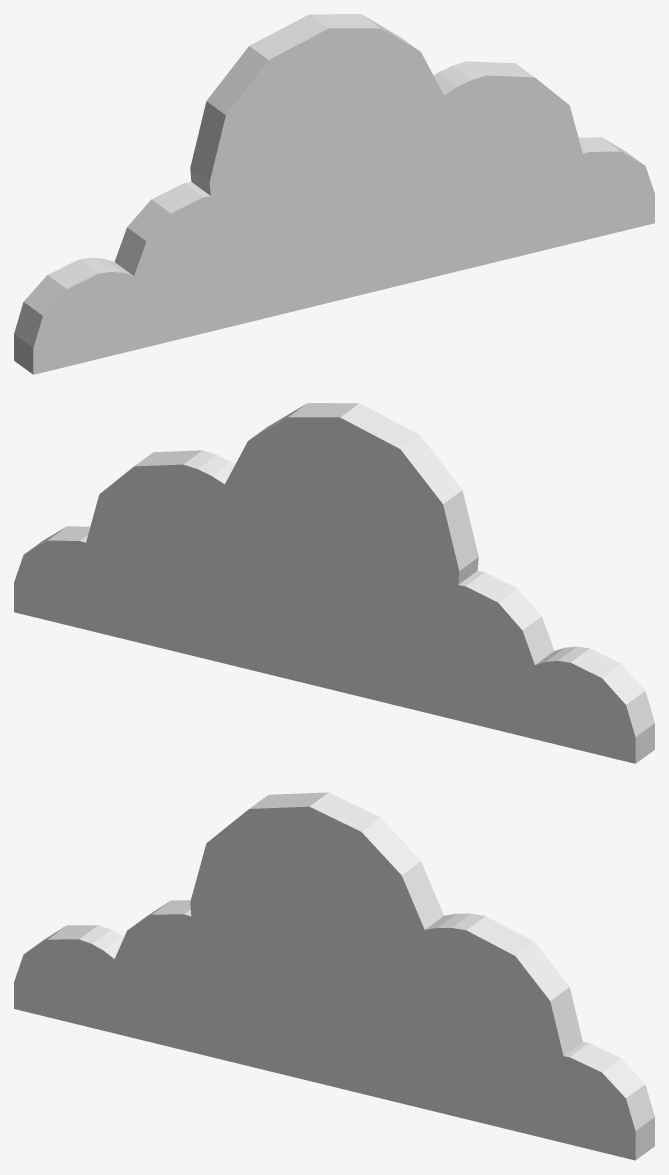
The model's file is cartoon_cloud_10.fbx.
The picture shows the model from 3 angles, top to bottom: view 1: azimuth 30°, elevation 25°; view 2: azimuth 150°, elevation 25°; view 3: azimuth 330°, elevation 25°; orthographic projection.
Parts seen in each view (by area): view 1: cloud_80; view 2: cloud_80; view 3: cloud_80.
Boxes of the visible parts, x1,y1,x2,y2 form: cloud_80: (14, 14, 654, 374); cloud_80: (14, 403, 654, 763); cloud_80: (14, 792, 654, 1160).
Size of the model in its own units: 369 by 156 by 20.
